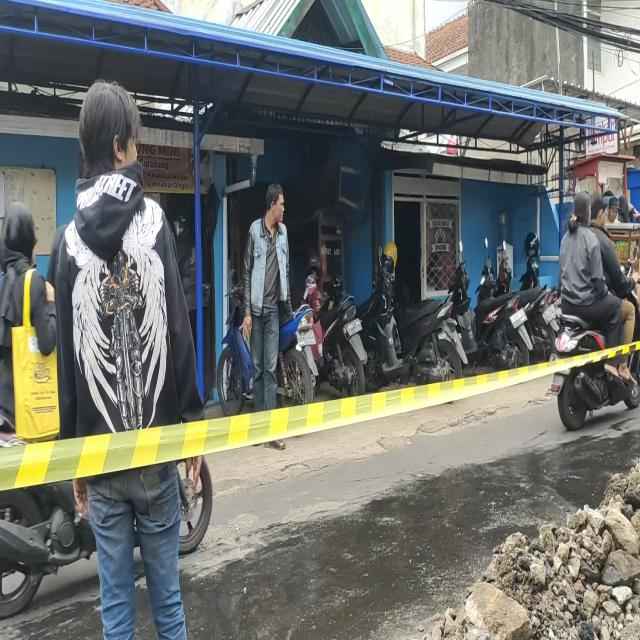no-helmet: (3, 207, 37, 271), (571, 190, 592, 231), (592, 188, 609, 231)
